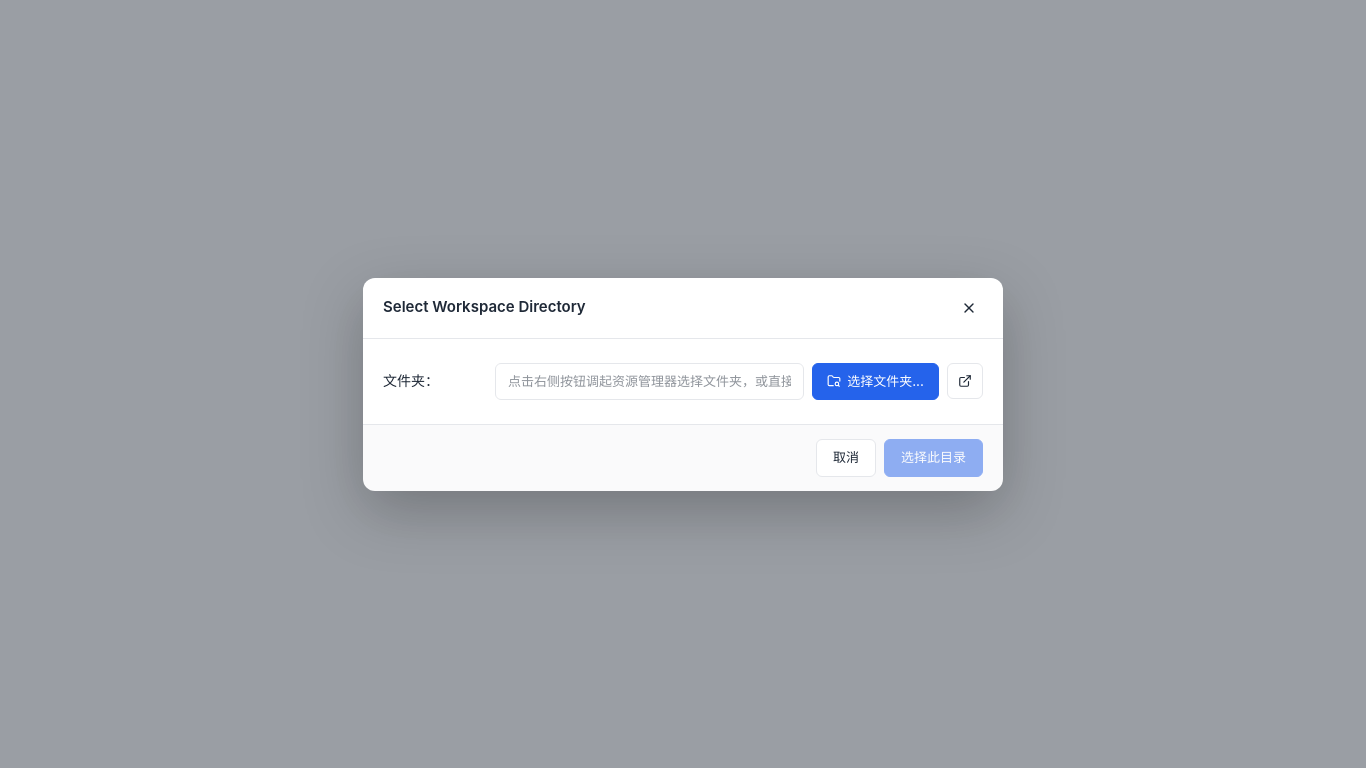
it: WorkspacePickerModal (v2 single-action) › submit failure shows error
Type "C:\\nope" into the field with test id "wp-path-input" at coordinates (650, 381), box 495,362 -> 804,400
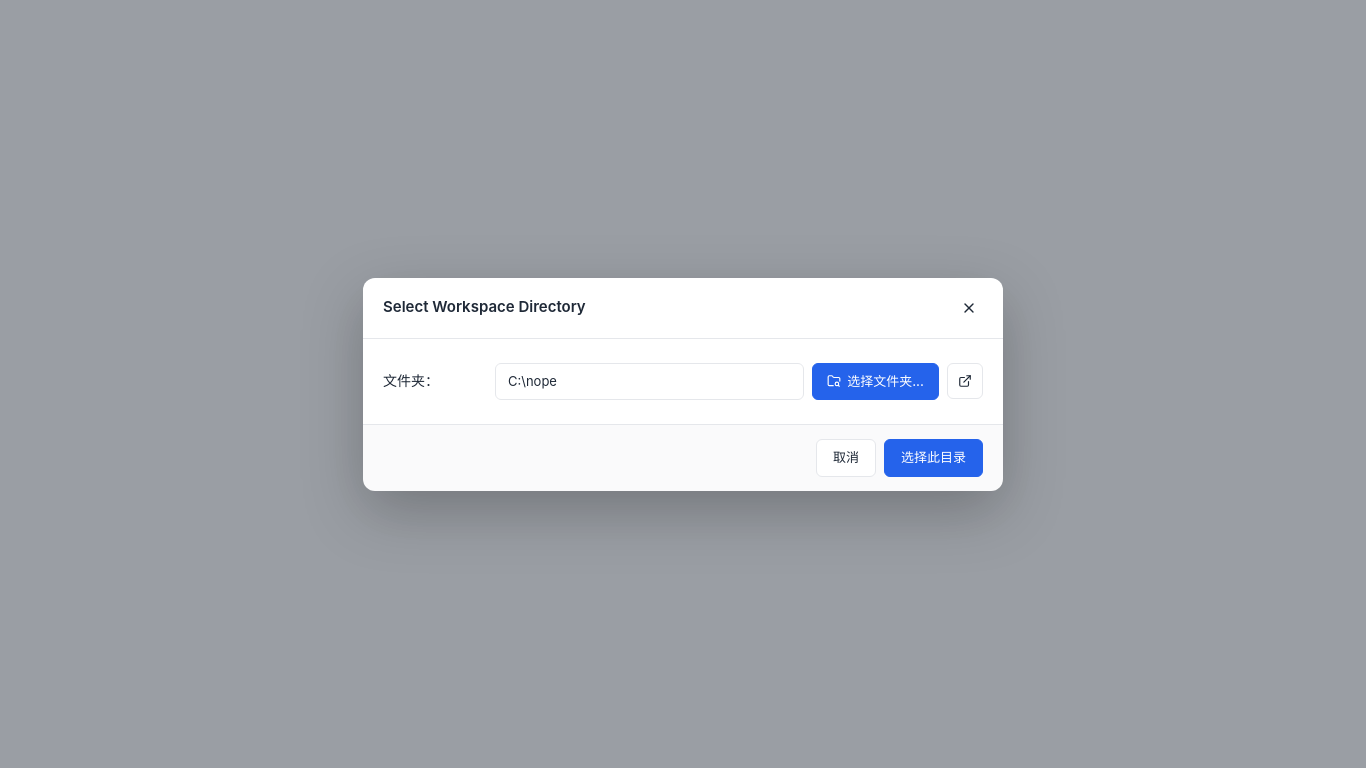
Click the button with test id "wp-submit" at coordinates (934, 458), box 884,439 -> 983,476
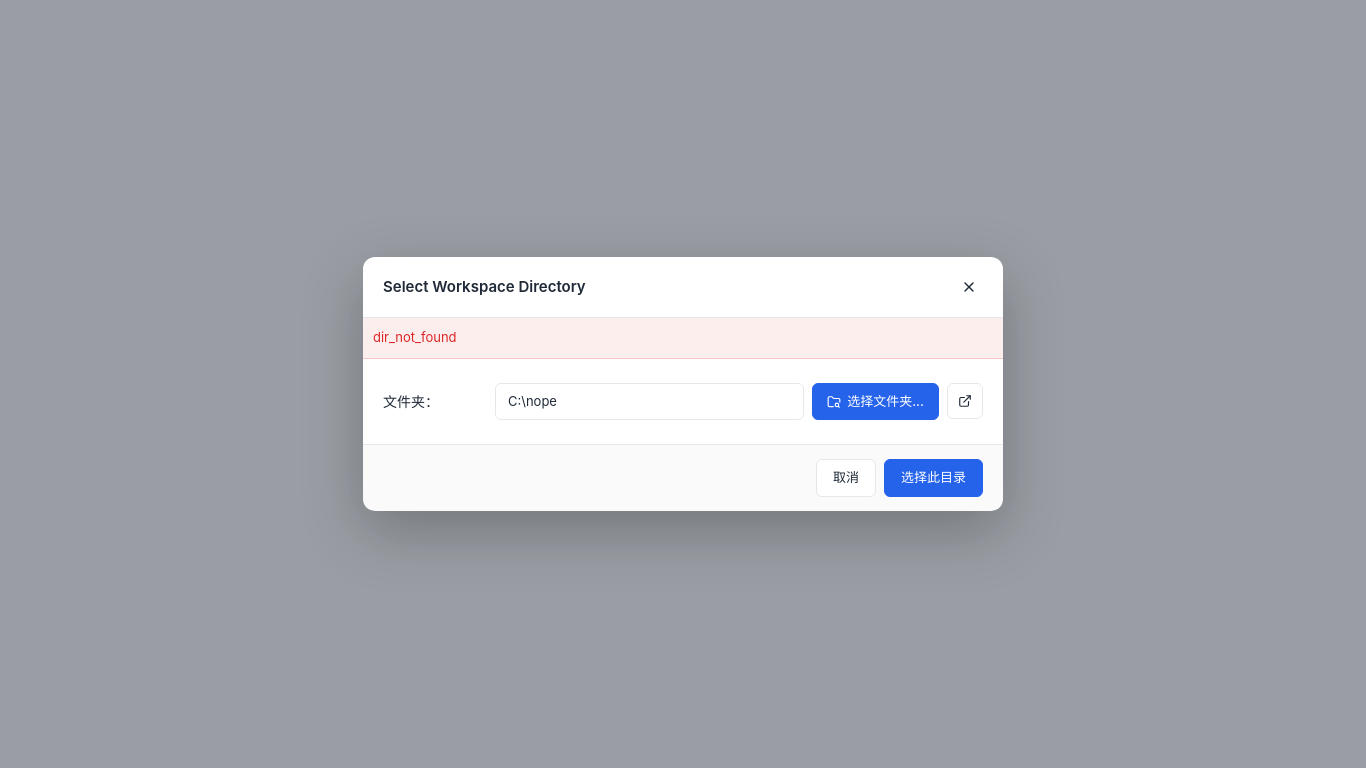
Expected: the text "dir_not_found" is shown, 363,318 -> 1003,359
